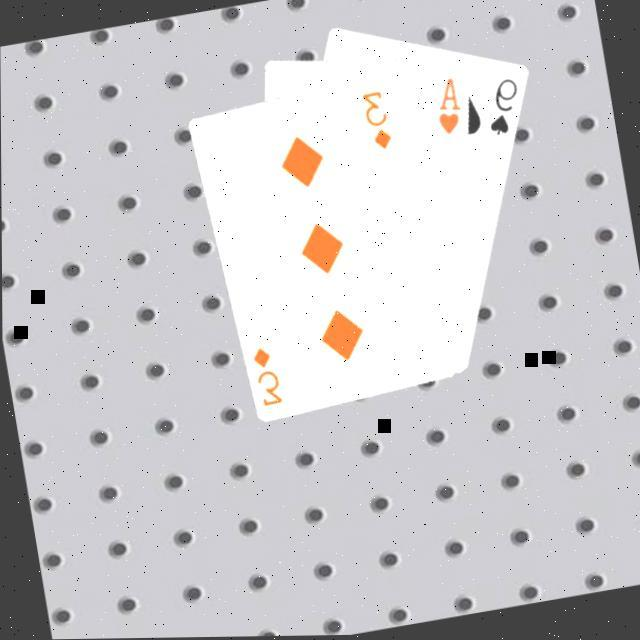3D: (355, 85, 394, 155), (246, 341, 284, 409)
9S: (477, 74, 526, 142)
AH: (427, 74, 466, 139)
